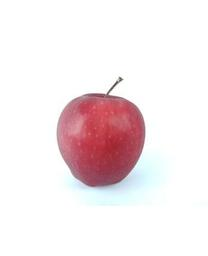apple: (55, 92, 144, 186)
